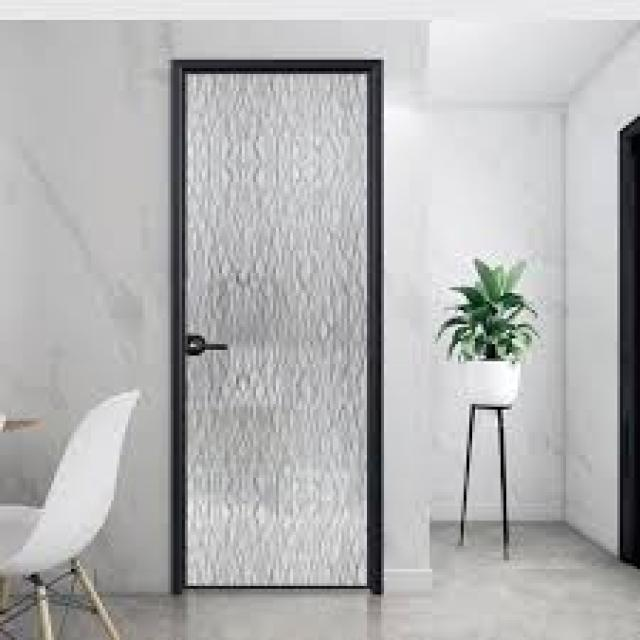door: (170, 61, 383, 598), (615, 116, 637, 572)
